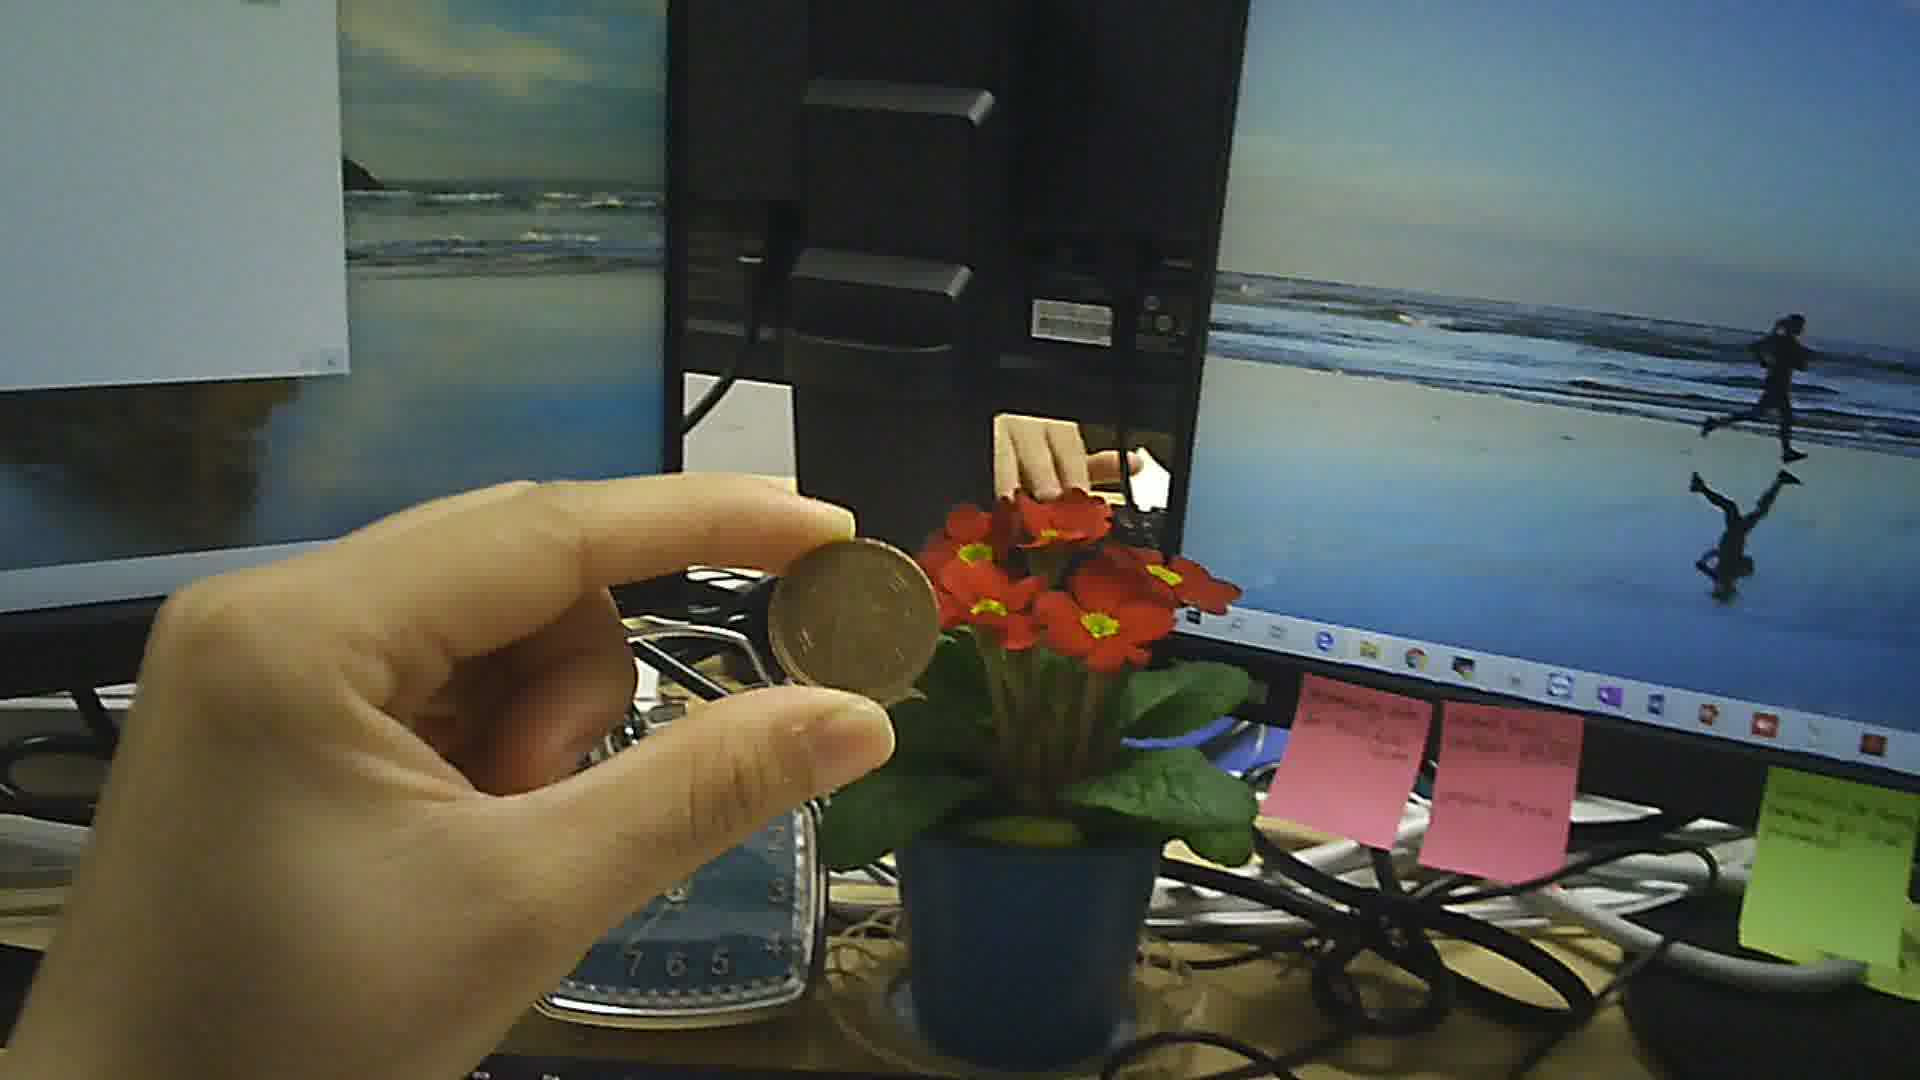10 Yen: (764, 533, 942, 702)
